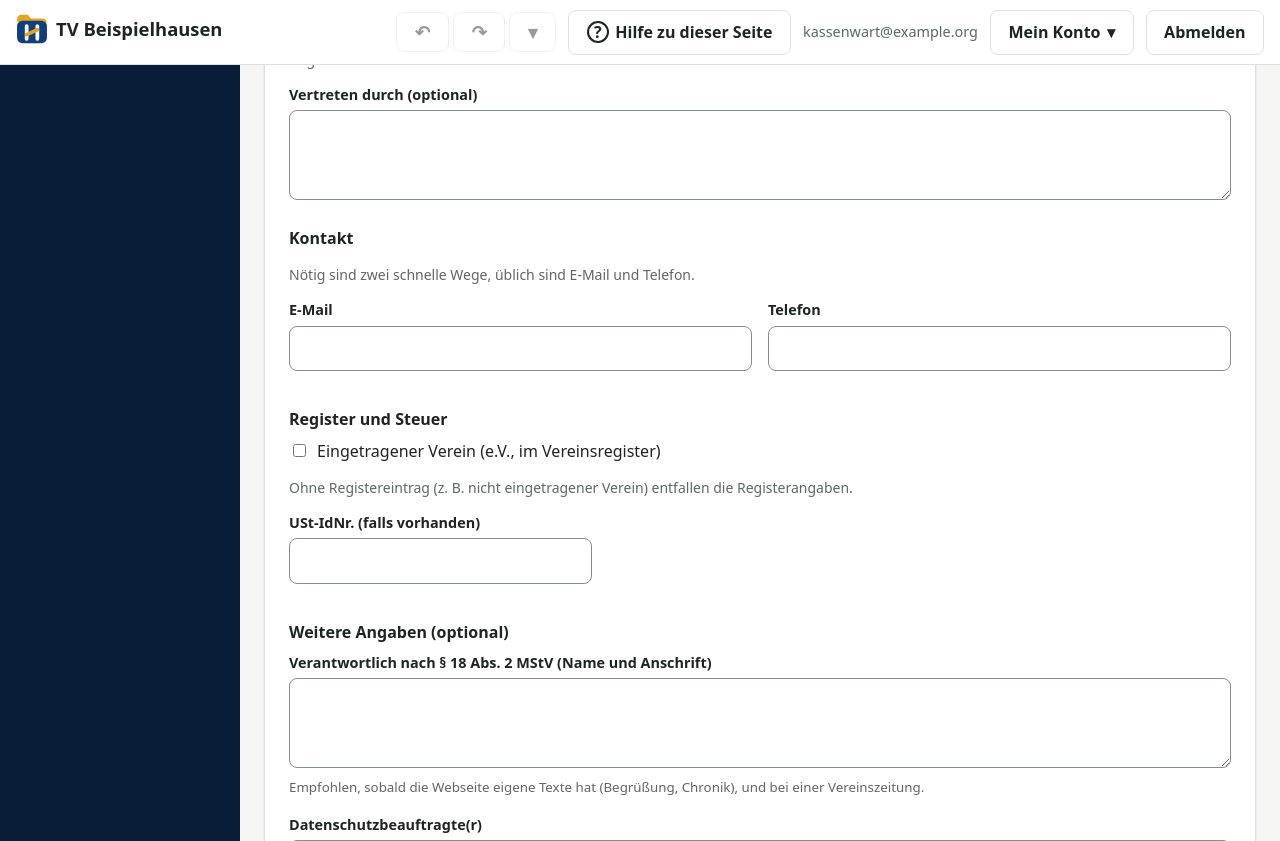
Scenario: Impressum pflegen › fragt Registerangaben nur bei eingetragenen Einheiten
(page scrolled)
Expected: the field labelled "Registernummer" is not shown
Step 1. Click the checkbox labelled "Eingetragener Verein (e.V., im Vereinsregister)" → (300, 450), box left=293, top=444, right=306, bottom=457
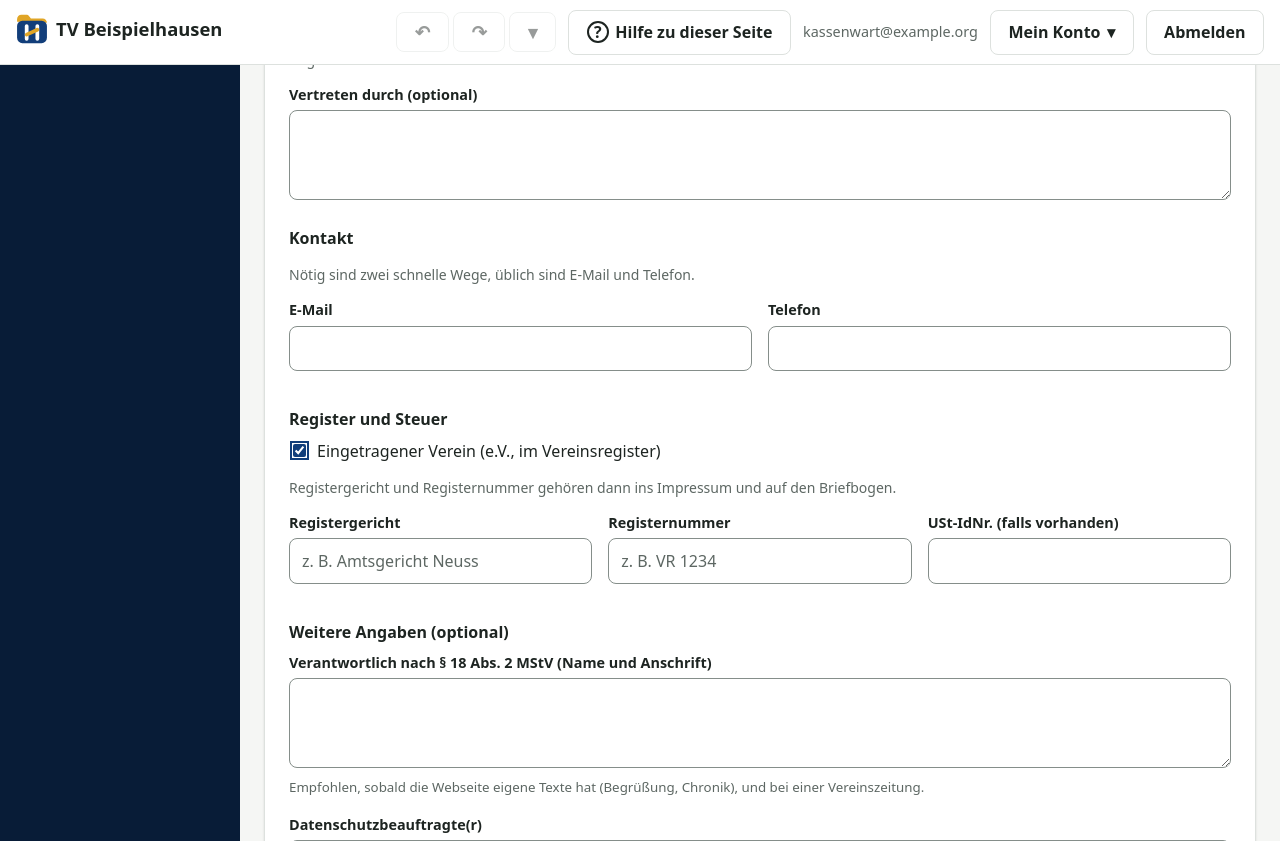
Result: the field labelled "Registernummer" is shown at left=608, top=538, right=912, bottom=584
Result: the field labelled "Registergericht" is shown at left=289, top=538, right=592, bottom=584
